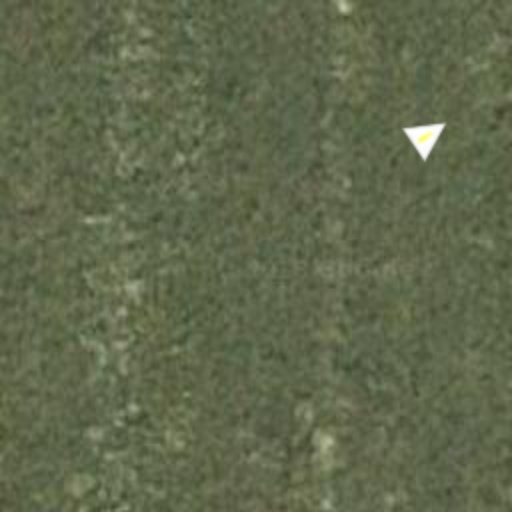triangle: (402, 106, 458, 162)
